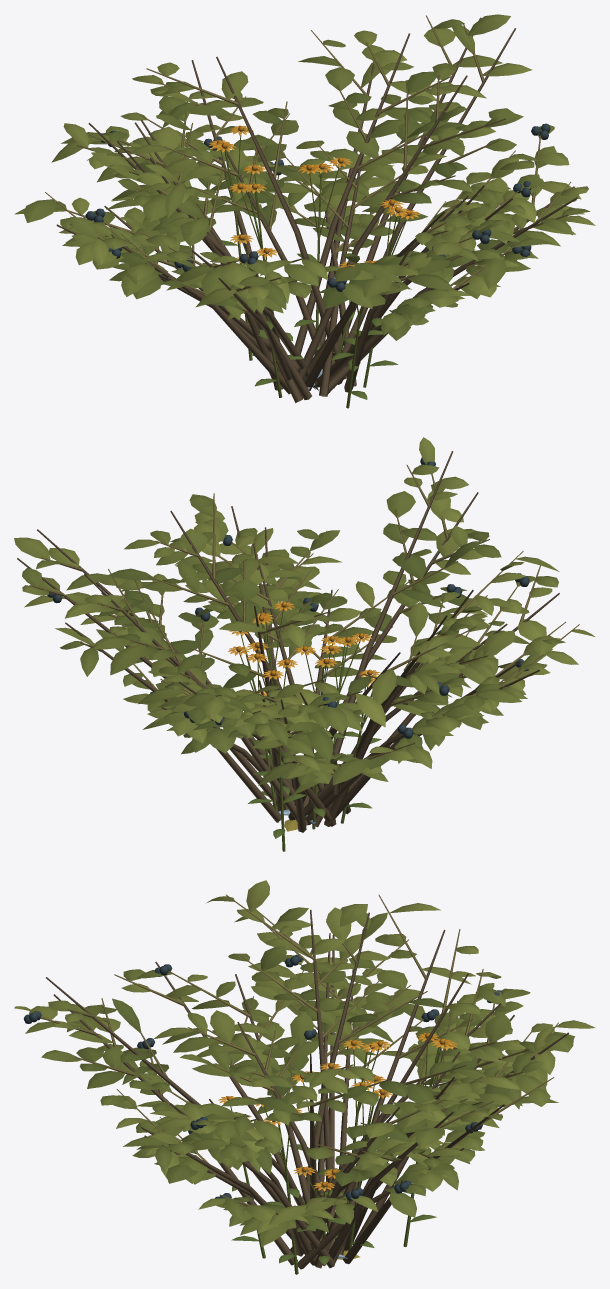
File: understory.glb
3 renders of one model, top to bottom at view 1: azimuth 30°, elevation 25°; view 2: azimuth 150°, elevation 25°; view 3: azimuth 270°, elevation 25°, orthographic. The views are drawn at different scales.
Parts seen in each view (by area): view 1: Bilberry stems and foliage, BilberryLow stems and foliage, Golden ragwort florets; view 2: Bilberry stems and foliage, BilberryLow stems and foliage, Golden ragwort florets; view 3: Bilberry stems and foliage, BilberryLow stems and foliage, Golden ragwort florets.
Boxes of the visible parts, x1,y1,x2,y2 form: Bilberry stems and foliage: (14, 30, 595, 402); BilberryLow stems and foliage: (63, 14, 588, 399); Golden ragwort florets: (208, 125, 420, 408); Bilberry stems and foliage: (24, 437, 594, 832); BilberryLow stems and foliage: (14, 451, 565, 821); Golden ragwort florets: (228, 601, 381, 851); Bilberry stems and foliage: (14, 880, 595, 1269); BilberryLow stems and foliage: (46, 894, 558, 1268); Golden ragwort florets: (218, 1033, 457, 1274).
Bounding box in the file's own units: 1.17 × 0.6212 × 1.16.
